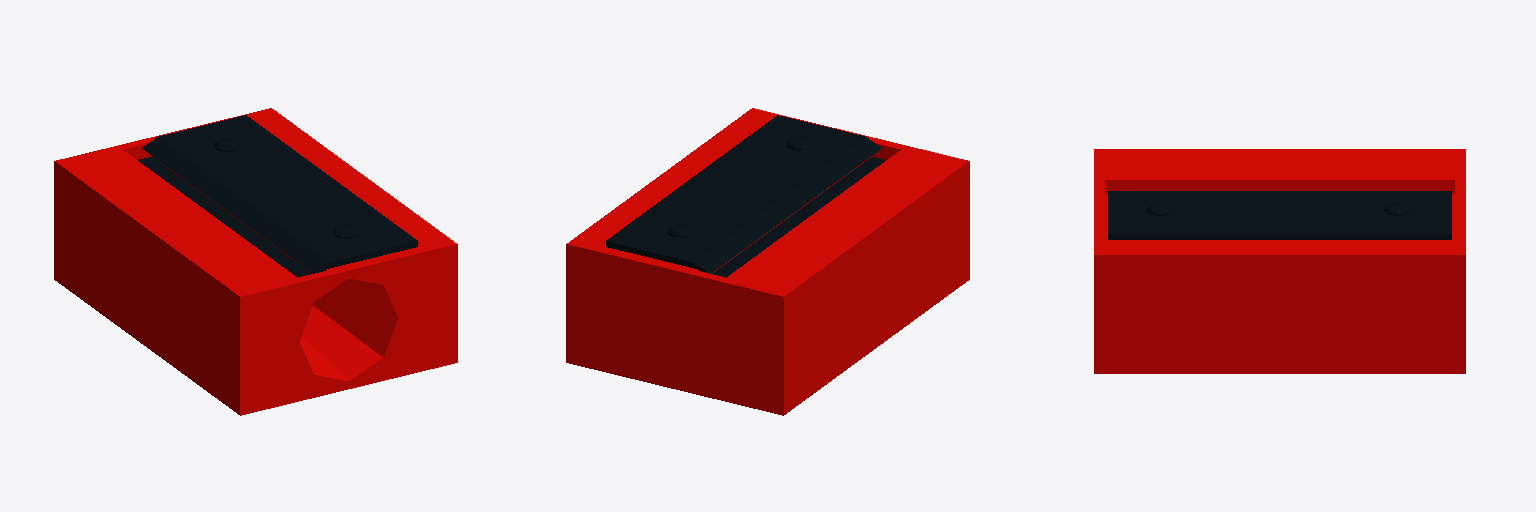
The model's file is Pencil_Sharpener_01.obj.
3 renders of one model, left to right at view 1: azimuth 30°, elevation 25°; view 2: azimuth 150°, elevation 25°; view 3: azimuth 270°, elevation 25°, orthographic.
Visible parts, largest first — view 1: Pencil_Sharpener_Cube.042; view 2: Pencil_Sharpener_Cube.042; view 3: Pencil_Sharpener_Cube.042.
Part boxes in pixels (bbox=[...]): Pencil_Sharpener_Cube.042: bbox=[54, 108, 457, 415]; Pencil_Sharpener_Cube.042: bbox=[566, 108, 969, 415]; Pencil_Sharpener_Cube.042: bbox=[1094, 149, 1465, 373].
Size of the model in its own units: 6.83 by 3.93 by 10.12.